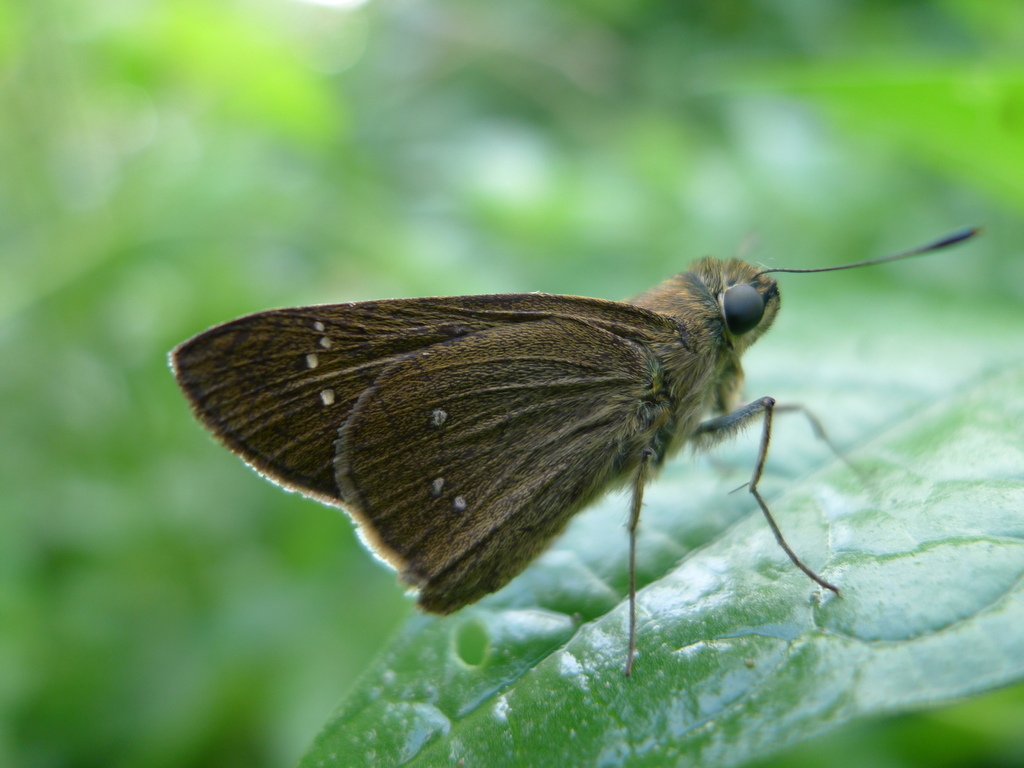Butterfly: (148, 226, 862, 668)
